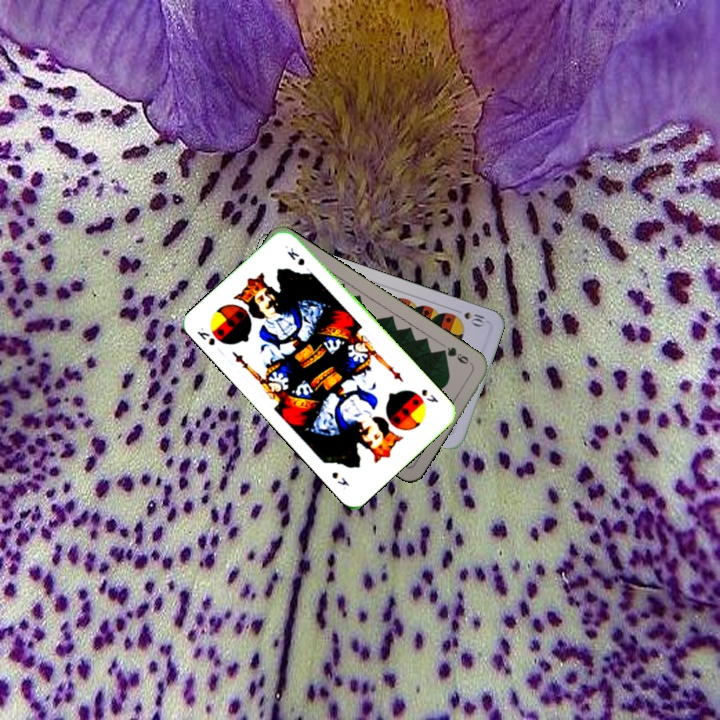G9: (436, 343, 475, 368)
S10: (450, 305, 488, 329)
SK: (193, 323, 218, 348), (417, 385, 441, 405)
